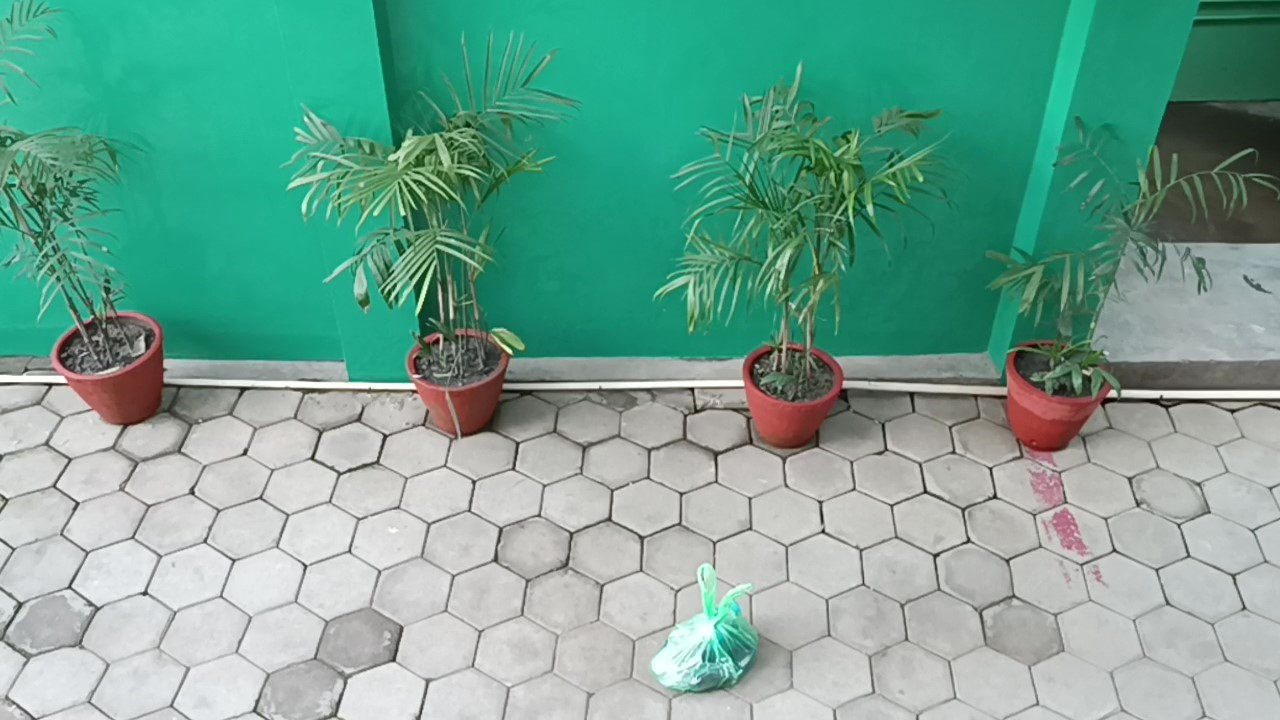thrownwaste: (636, 541, 790, 716)
